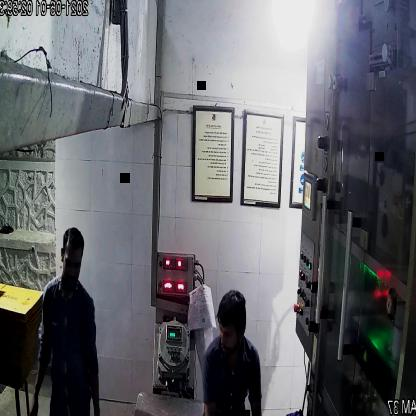no_goggles: (212, 320, 252, 342), (61, 253, 84, 275)
